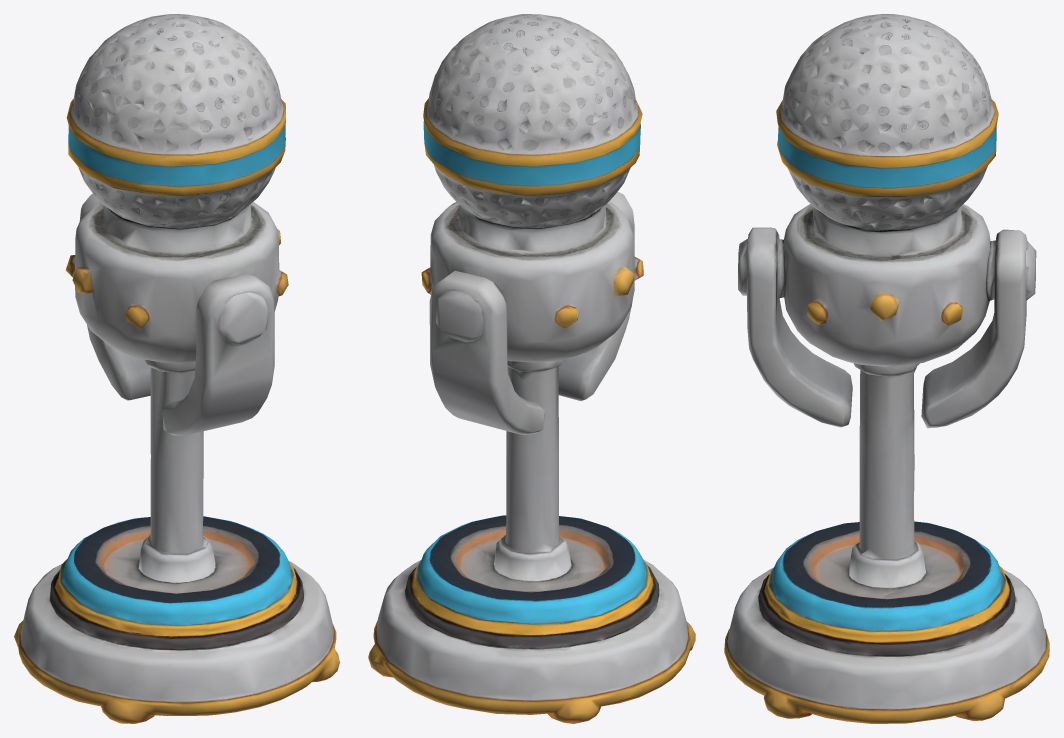
The model's file is microphone.glb.
The picture shows the model from 3 angles, left to right: view 1: azimuth 30°, elevation 25°; view 2: azimuth 150°, elevation 25°; view 3: azimuth 270°, elevation 25°; orthographic projection.
Visible parts, largest first — view 1: tripo_node_fb71f1a0-fabe-418b-be8c-9c274dc24ee0; view 2: tripo_node_fb71f1a0-fabe-418b-be8c-9c274dc24ee0; view 3: tripo_node_fb71f1a0-fabe-418b-be8c-9c274dc24ee0.
Part boxes in pixels (x1,y1,x2,y2): tripo_node_fb71f1a0-fabe-418b-be8c-9c274dc24ee0: [14, 14, 339, 723]; tripo_node_fb71f1a0-fabe-418b-be8c-9c274dc24ee0: [368, 14, 695, 723]; tripo_node_fb71f1a0-fabe-418b-be8c-9c274dc24ee0: [724, 14, 1049, 723].
Bounding box in the file's own units: 0.1146 × 0.25 × 0.1147.
1 material, 1 textured.
